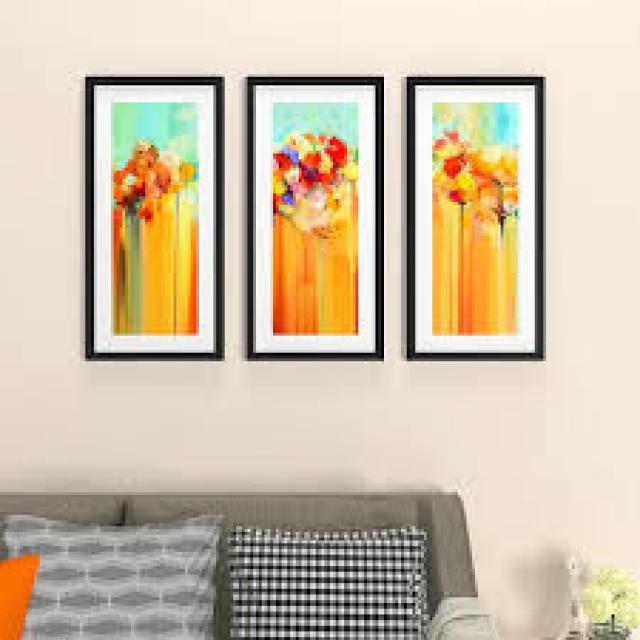painting: (408, 76, 546, 361), (87, 75, 224, 360), (246, 76, 383, 361)
